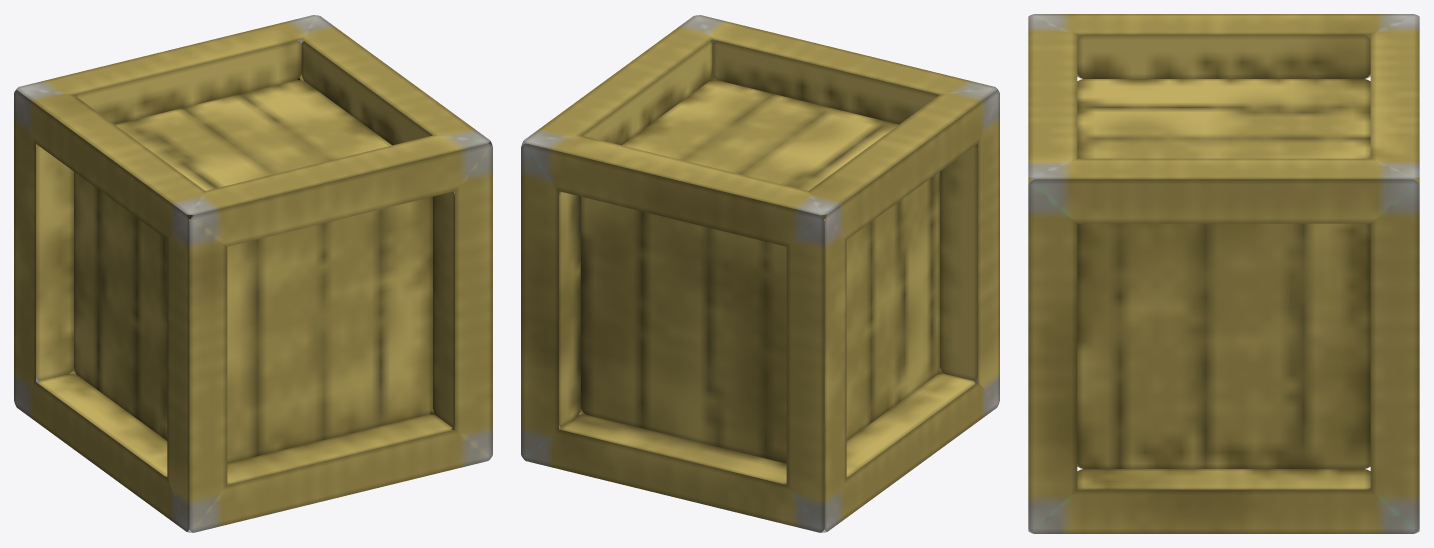
File: wooden-crate.obj
3 views of the same model, side by side, from view 1: azimuth 30°, elevation 25°; view 2: azimuth 150°, elevation 25°; view 3: azimuth 270°, elevation 25° (orthographic). The views are drawn at different scales.
Parts seen in each view (by area): view 1: obj1; view 2: obj1; view 3: obj1.
Part boxes in pixels (x1,y1,x2,y2): obj1: [14, 15, 492, 532]; obj1: [521, 15, 999, 532]; obj1: [1028, 14, 1419, 533].
Size of the model in its own units: 0.5 by 0.5 by 0.5.
1 material, 1 textured.
